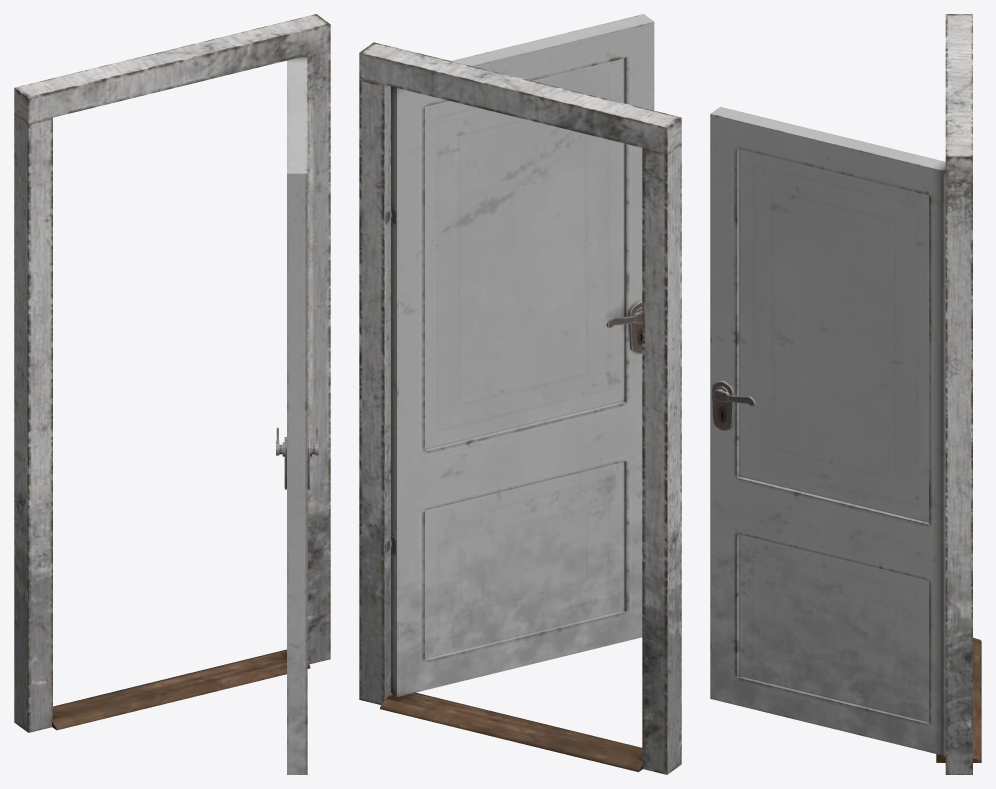
Rendered from old_door.glb.
3 renders of one model, left to right at view 1: azimuth 30°, elevation 25°; view 2: azimuth 150°, elevation 25°; view 3: azimuth 270°, elevation 25°, orthographic. The views are drawn at different scales.
Parts seen in each view (by area): view 1: Door__0; view 2: Door__0; view 3: Door__0.
Boxes of the visible parts, bbox=[...] form: Door__0: bbox=[14, 14, 330, 774]; Door__0: bbox=[359, 14, 681, 774]; Door__0: bbox=[710, 14, 981, 774].
Size of the model in its own units: 132 by 265 by 106.
Materials: 1 (1 with a texture image).
